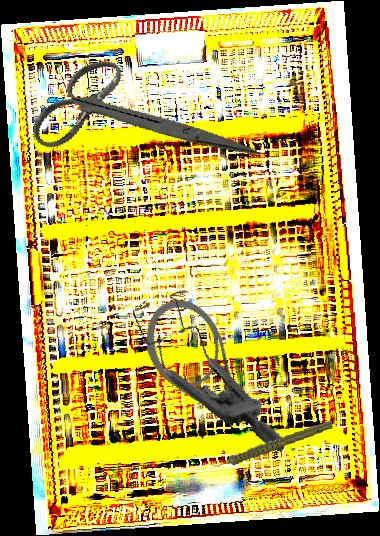Cannula: (132, 287, 256, 446)
Handpiece: (206, 419, 336, 469)
Iris Scissors: (17, 21, 259, 222)
Speculum: (106, 277, 320, 453)
